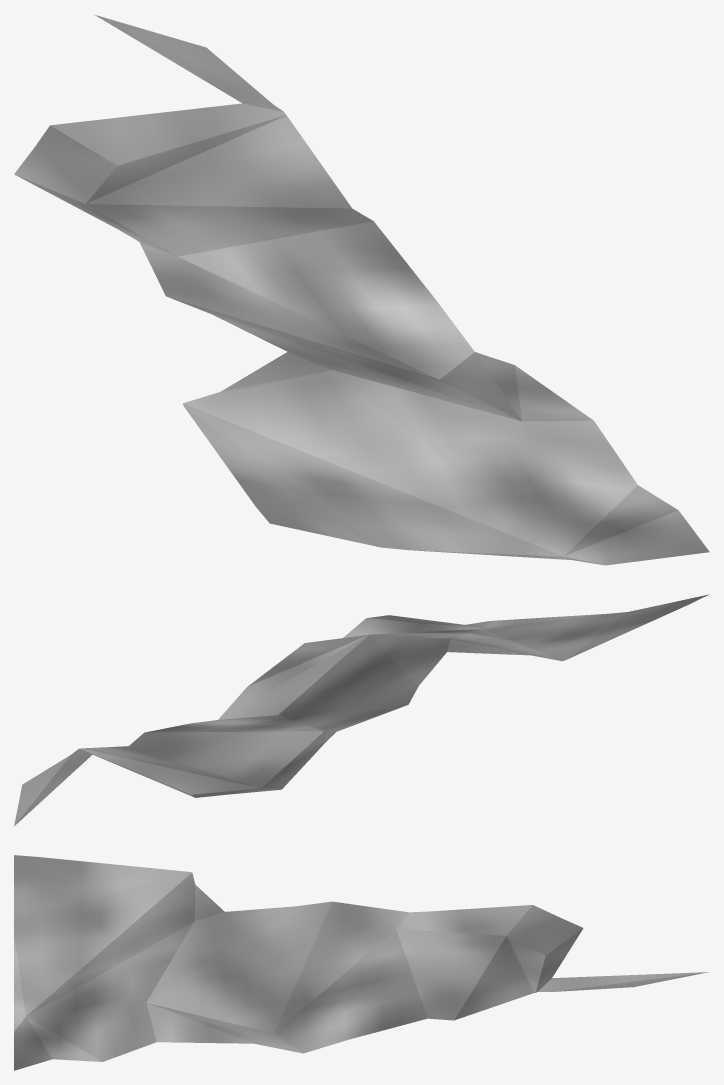
The picture shows the model from 3 angles, top to bottom: view 1: azimuth 30°, elevation 25°; view 2: azimuth 150°, elevation 25°; view 3: azimuth 270°, elevation 25°; orthographic projection. The views are drawn at different scales.
Size of the model in its own units: 0.0522 by 0.0154 by 0.1162.
Materials: 1 (1 with a texture image).
